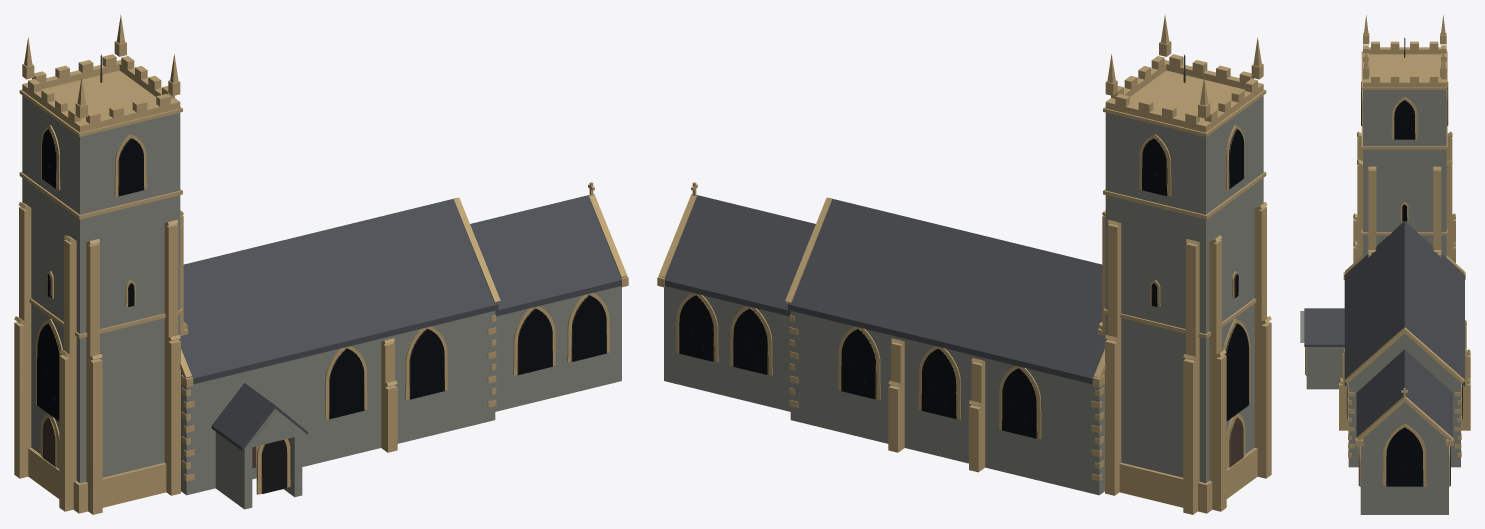
Rendered from context.church.som_village.glb.
3 views of the same model, side by side, from view 1: azimuth 30°, elevation 25°; view 2: azimuth 150°, elevation 25°; view 3: azimuth 270°, elevation 25° (orthographic). The views are drawn at different scales.
Visible parts, largest first — view 1: main__stone_888, main__clad_455, main__stone_ba7, main__glass_dark, main__timber_111, main__stone_875; view 2: main__stone_888, main__clad_455, main__stone_ba7, main__glass_dark, main__stone_875; view 3: main__stone_888, main__clad_455, main__stone_ba7, main__glass_dark, main__stone_875.
Part boxes in pixels (bbox=[...]): main__stone_888: bbox=[22, 95, 621, 509]; main__clad_455: bbox=[180, 195, 623, 450]; main__stone_ba7: bbox=[14, 15, 628, 514]; main__glass_dark: bbox=[37, 129, 606, 421]; main__timber_111: bbox=[262, 439, 286, 493]; main__stone_875: bbox=[36, 129, 606, 493]; main__stone_888: bbox=[664, 95, 1263, 495]; main__clad_455: bbox=[662, 195, 1105, 384]; main__stone_ba7: bbox=[657, 15, 1271, 514]; main__glass_dark: bbox=[679, 128, 1249, 438]; main__stone_875: bbox=[679, 129, 1249, 467]; main__stone_888: bbox=[1300, 90, 1460, 514]; main__clad_455: bbox=[1304, 221, 1464, 438]; main__stone_ba7: bbox=[1306, 15, 1470, 486]; main__glass_dark: bbox=[1347, 82, 1462, 486]; main__stone_875: bbox=[1305, 82, 1462, 485].
Bounding box in the file's own units: 28.77 × 21.47 × 10.6.
